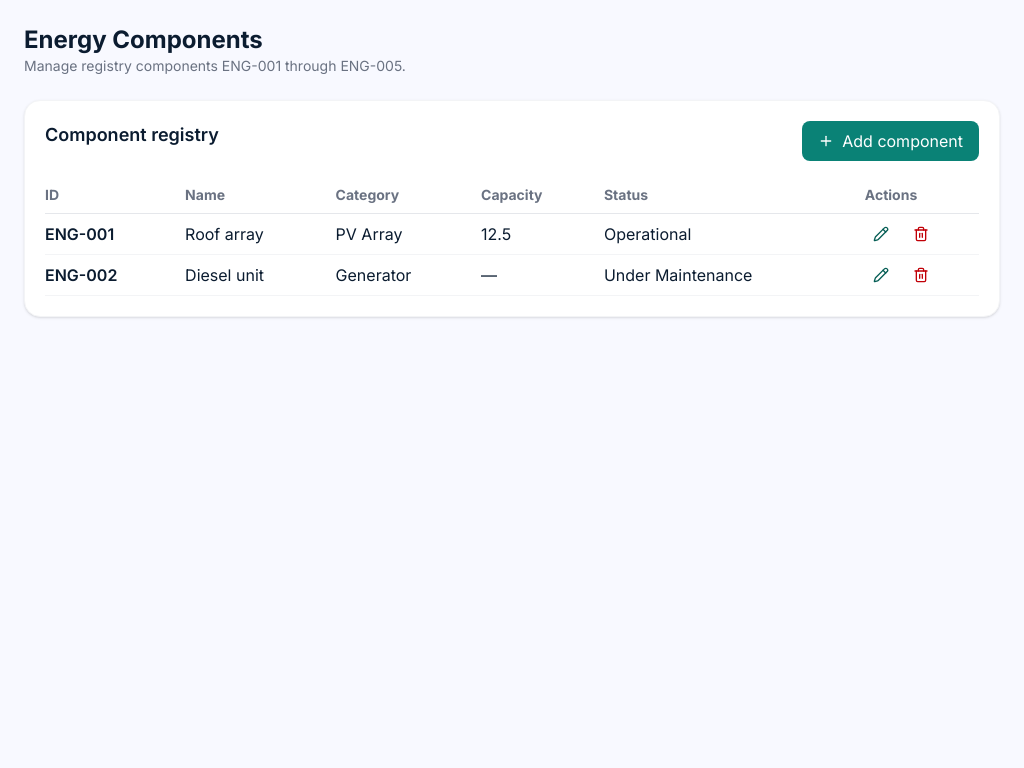
Test: EnergyComponents › asks for confirmation before deleting, and deletes only once confirmed
Click the button named "Delete ENG-001". click: (921, 234)
box: [905, 218, 937, 250]
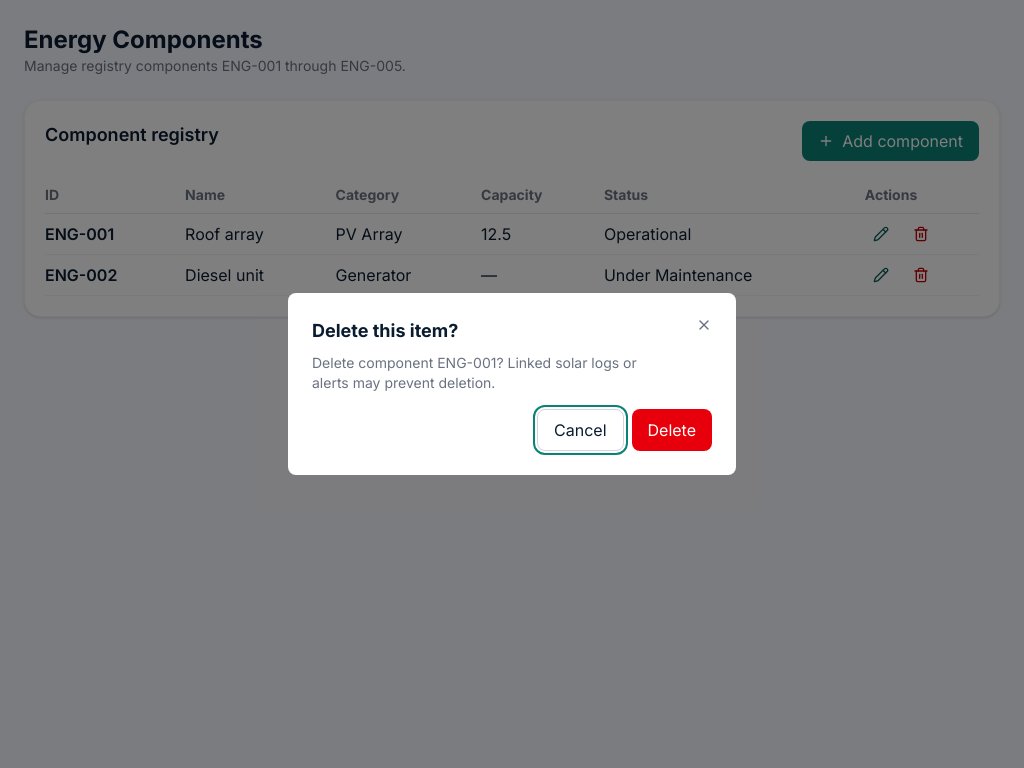
Now the dialog shows "Delete component ENG-001? Linked solar logs or alerts may prevent deletion.", box [312, 354, 637, 391]
Click the button "Cancel". click: (580, 430)
box: [537, 409, 624, 451]
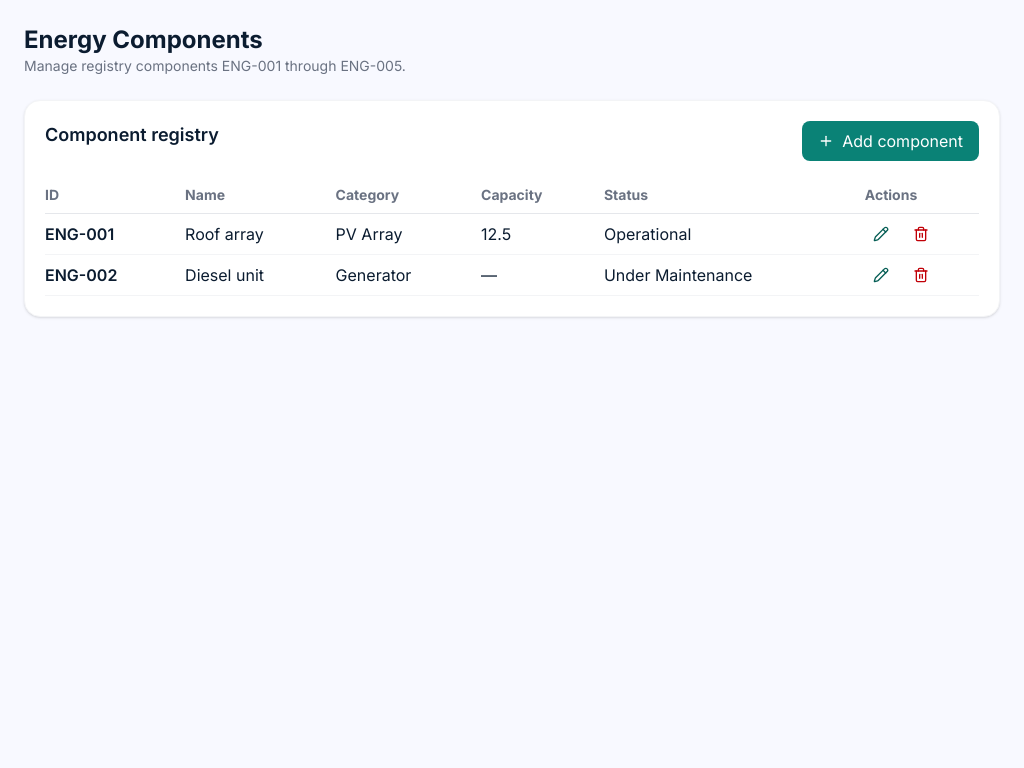
Now the dialog is gone
Click the button named "Delete ENG-001". click: (921, 234)
box: [905, 218, 937, 250]
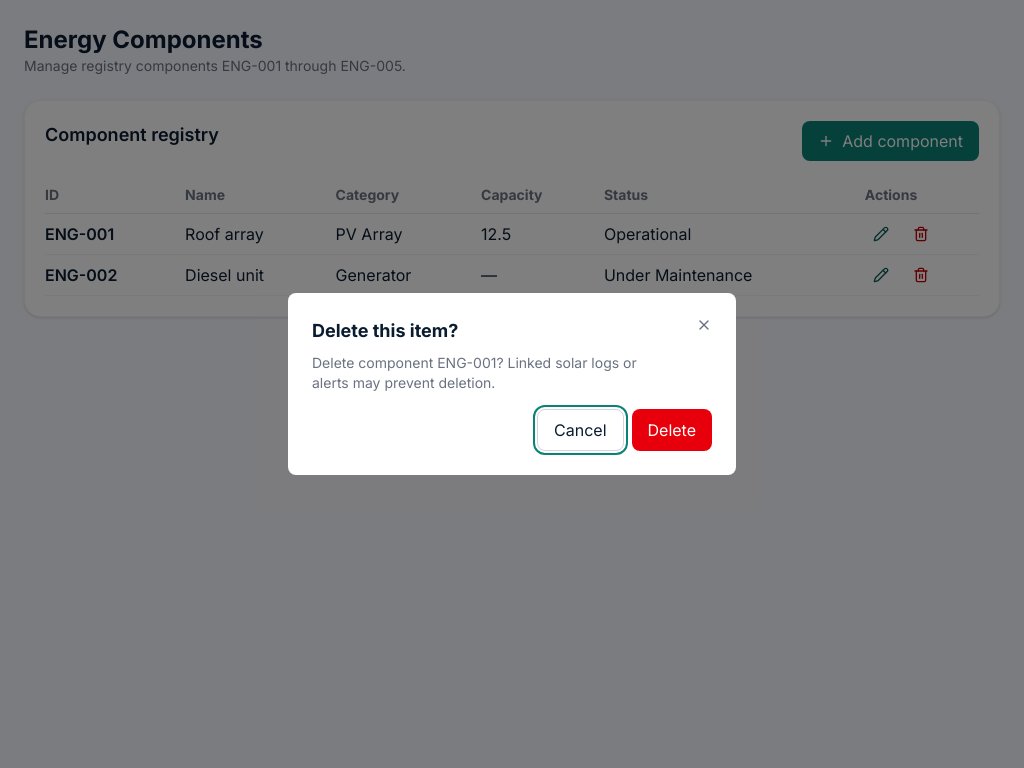
Click the button "Delete". click: (672, 430)
box: [632, 409, 712, 451]
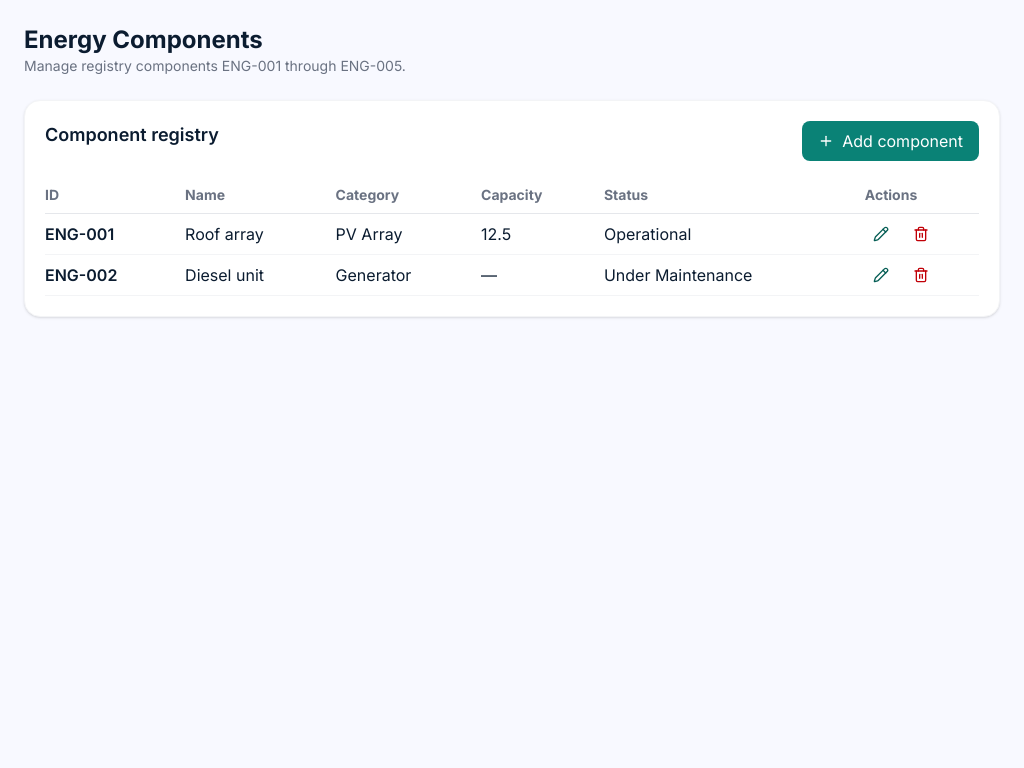
Now the dialog is gone
